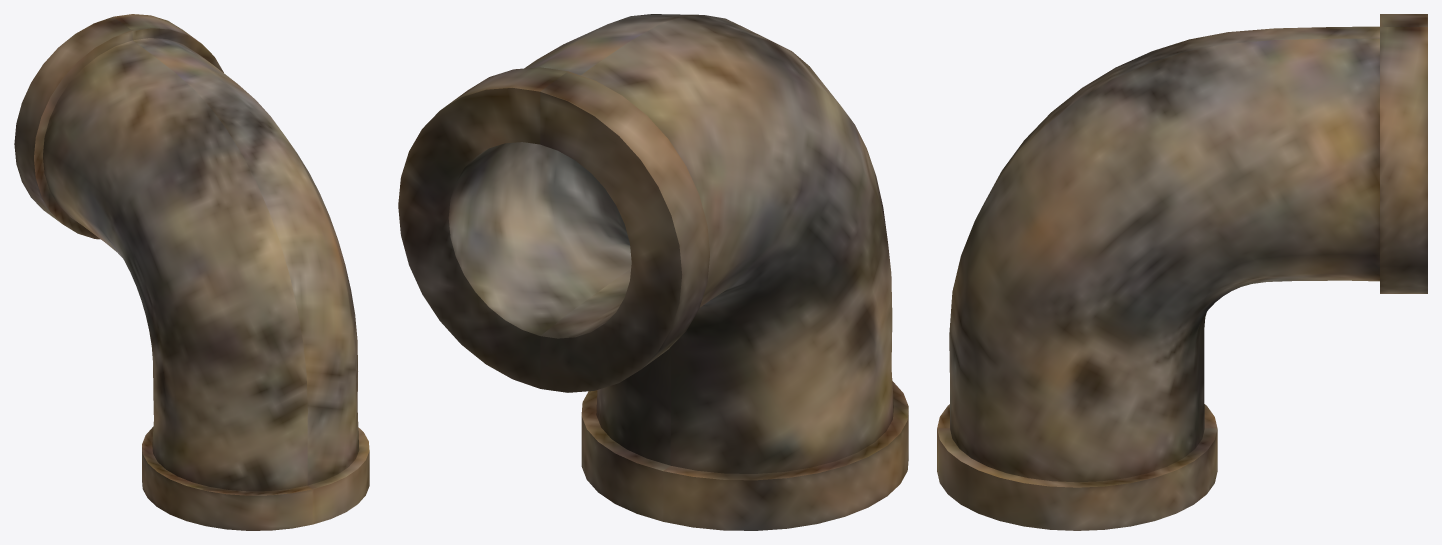
The model's file is pipe-elbow-tight.glb.
3 views of the same model, side by side, from view 1: azimuth 30°, elevation 25°; view 2: azimuth 150°, elevation 25°; view 3: azimuth 270°, elevation 25° (orthographic). The views are drawn at different scales.
Visible parts, largest first — view 1: pipe-elbow-tight; view 2: pipe-elbow-tight; view 3: pipe-elbow-tight.
Boxes of the visible parts, box(x1,y1,x2,y2) form: pipe-elbow-tight: box(14, 14, 369, 530); pipe-elbow-tight: box(398, 14, 908, 530); pipe-elbow-tight: box(937, 14, 1427, 530).
Size of the model in its own units: 0.2811 by 0.492 by 0.492.
1 material, 1 textured.
